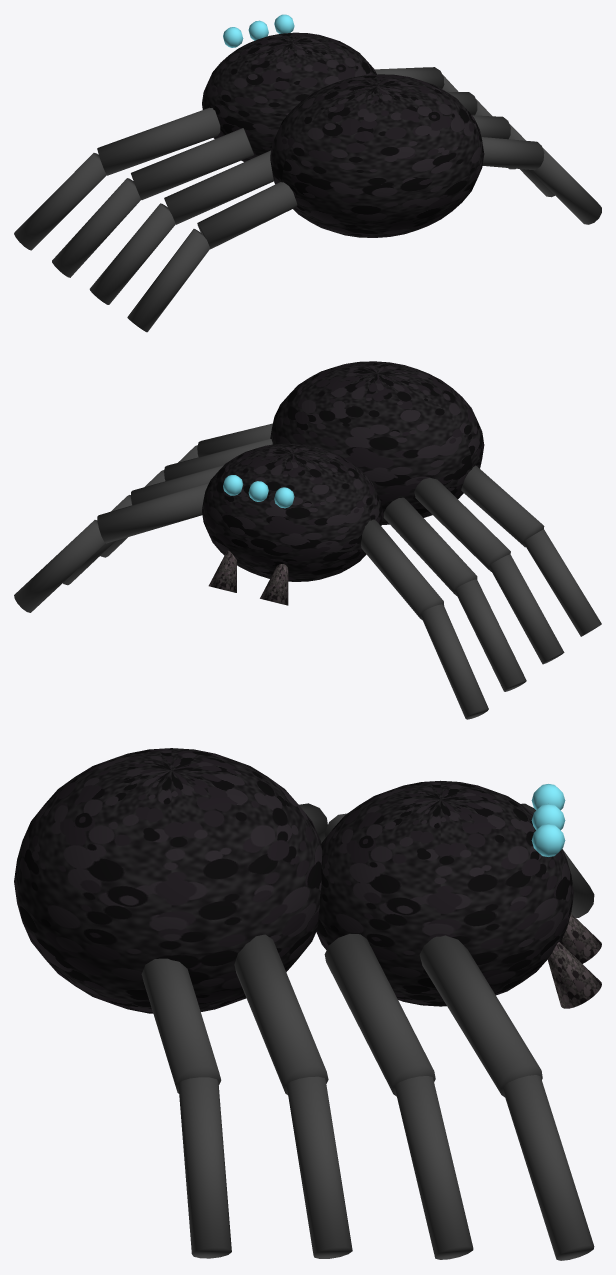
The model's file is tsuchigumo.glb.
3 views of the same model, one above another, from view 1: azimuth 30°, elevation 25°; view 2: azimuth 150°, elevation 25°; view 3: azimuth 270°, elevation 25° (orthographic). The views are drawn at different scales.
Visible parts, largest first — view 1: RearMass, FrontMass, LegUpper, LegUpper.001, LegUpper.002, LegUpper.003, LegLower.001, LegLower.002, LegLower, LegLower.003, LegLower.007, LegUpper.007 (+3 smaller); view 2: RearMass, FrontMass, LegUpper.004, LegUpper.001, LegUpper.002, LegUpper, LegLower, LegLower.001, LegLower.002, LegLower.003, LegLower.004, LegUpper.003 (+6 smaller); view 3: RearMass, FrontMass, LegUpper.004, LegLower.004, LegUpper.005, LegLower.005, LegLower.007, LegLower.006, LegUpper.006, LegUpper.007, Fang.001, Fang (+2 smaller).
Part boxes in pixels (x1=…): RearMass: x1=270, y1=74, x2=484, y2=237; FrontMass: x1=202, y1=32, x2=376, y2=161; LegUpper: x1=97, y1=107, x2=220, y2=175; LegUpper.001: x1=131, y1=128, x2=254, y2=199; LegUpper.002: x1=164, y1=150, x2=273, y2=224; LegUpper.003: x1=197, y1=182, x2=297, y2=249; LegLower.001: x1=52, y1=178, x2=141, y2=277; LegLower.002: x1=89, y1=203, x2=175, y2=304; LegLower: x1=14, y1=153, x2=106, y2=250; LegLower.003: x1=127, y1=229, x2=209, y2=332; LegLower.007: x1=530, y1=147, x2=601, y2=224; LegUpper.007: x1=481, y1=137, x2=544, y2=170; RearMass: x1=270, y1=361, x2=484, y2=524; FrontMass: x1=202, y1=443, x2=383, y2=581; LegUpper.004: x1=97, y1=482, x2=208, y2=543; LegUpper.001: x1=383, y1=497, x2=477, y2=595; LegUpper.002: x1=414, y1=477, x2=510, y2=571; LegUpper: x1=361, y1=519, x2=444, y2=619; LegLower: x1=421, y1=604, x2=488, y2=719; LegLower.001: x1=455, y1=579, x2=526, y2=691; LegLower.002: x1=490, y1=554, x2=564, y2=664; LegLower.003: x1=524, y1=529, x2=601, y2=636; LegLower.004: x1=14, y1=520, x2=105, y2=612; LegUpper.003: x1=461, y1=465, x2=544, y2=547; RearMass: x1=14, y1=748, x2=322, y2=1013; FrontMass: x1=316, y1=780, x2=573, y2=1006; LegUpper.004: x1=419, y1=935, x2=542, y2=1097; LegLower.004: x1=503, y1=1075, x2=594, y2=1260; LegUpper.005: x1=324, y1=934, x2=435, y2=1096; LegLower.005: x1=395, y1=1076, x2=473, y2=1259; LegLower.007: x1=178, y1=1077, x2=231, y2=1258; LegLower.006: x1=286, y1=1076, x2=352, y2=1258; LegUpper.006: x1=234, y1=934, x2=328, y2=1094; LegUpper.007: x1=141, y1=958, x2=221, y2=1093; Fang.001: x1=547, y1=942, x2=601, y2=1008; Fang: x1=560, y1=913, x2=601, y2=963.
Bounding box in the file's own units: 0.9862 × 0.4004 × 0.6693.
Materials: 4 (2 with a texture image).
